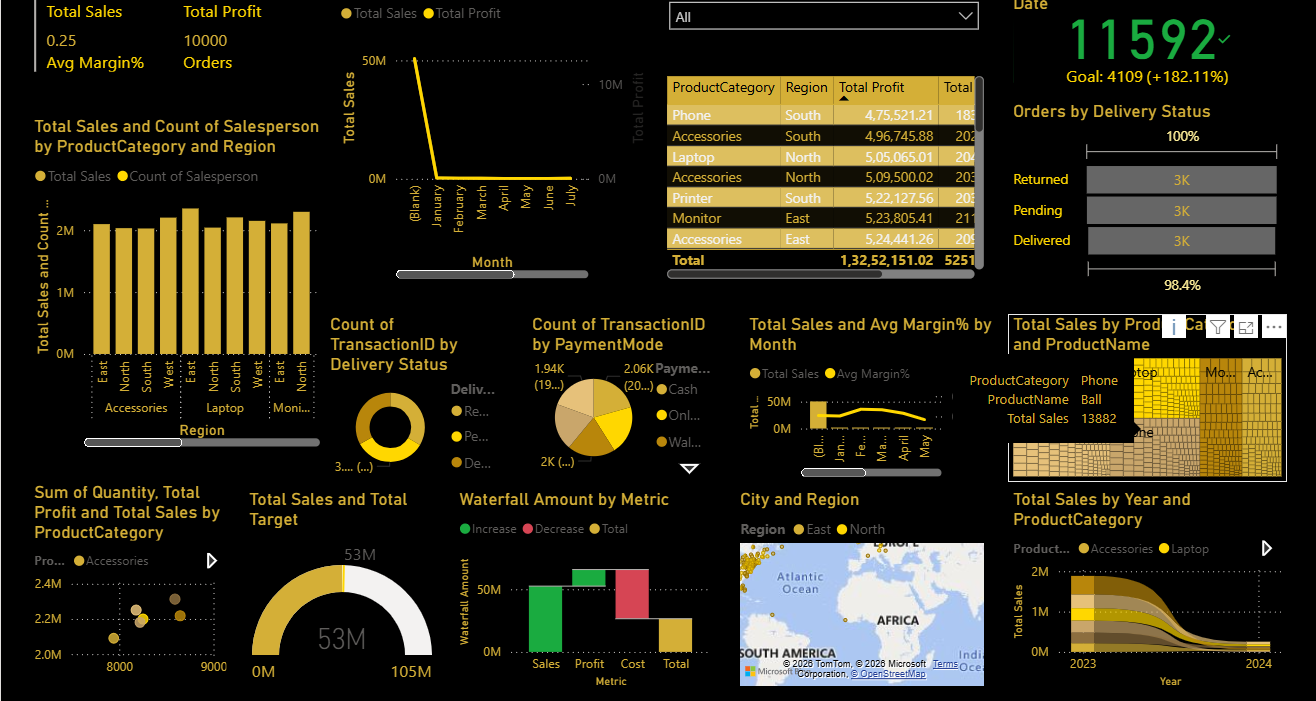

What the dashboard file says about the page in this screenshot:
{"tool":"powerbi","page":{"name":"Page 1","canvas":[1280,720],"ordinal":0},"visuals":[{"type":"multiRowCard","fields":{"Values":["Retail_Sales.Total Sales","Retail_Sales.Total Profit","Retail_Sales.Avg Margin%","Retail_Sales.Orders"]},"box":[27.2,9.7,287.9,134.2],"z":0},{"type":"columnChart","fields":{"Y":["Retail_Sales.Total Sales","CountNonNull(Retail_Sales.Salesperson)"],"Category":["Retail_Sales.ProductCategory","Retail_Sales.Region"]},"box":[27.2,148.8,287.9,326.8],"z":1000},{"type":"lineChart","fields":{"Y":["Retail_Sales.Total Sales"],"Y2":["Retail_Sales.Total Profit"],"Category":["Calendars.Date.Variation.Date Hierarchy.Month"]},"box":[324.9,9.7,306.4,302.5],"z":2000},{"type":"donutChart","fields":{"Category":["Retail_Sales.Delivery Status"],"Y":["CountNonNull(Retail_Sales.TransactionID)"]},"box":[315.1,341.4,178,163.4],"z":3000},{"type":"tableEx","fields":{"Values":["Retail_Sales.ProductCategory","Retail_Sales.Region","Retail_Sales.Total Profit","Retail_Sales.Total Sales","Retail_Sales.Avg Margin%"]},"box":[641.9,105,319,207.2],"z":4000},{"type":"slicer","fields":{"Values":["Retail_Sales.Region","Calendars.Date","Retail_Sales.ProductCategory"]},"box":[640,9.7,321,81.7],"z":5000},{"type":"lineClusteredColumnComboChart","fields":{"Y":["Retail_Sales.Total Sales"],"Y2":["Retail_Sales.Avg Margin%"],"Category":["Calendars.Date.Variation.Date Hierarchy.Month"]},"box":[722.7,341.4,247.1,163.4],"z":6000},{"type":"scatterChart","fields":{"X":["Sum(Retail_Sales.Quantity)"],"Y":["Retail_Sales.Total Profit"],"Size":["Retail_Sales.Total Sales"],"Series":["Retail_Sales.ProductCategory"]},"box":[27.2,504.8,197.4,197.4],"z":7000},{"type":"gauge","fields":{"Y":["Retail_Sales.Total Sales"],"TargetValue":["Retail_Sales.Total Target"]},"box":[236.4,511.6,190.6,197.4],"z":8000},{"type":"waterfallChart","fields":{"Category":["Waterfall Metrics.Metric"],"Y":["Waterfall Metrics.Waterfall Amount"]},"box":[440.6,511.6,254.8,197.4],"z":9000},{"type":"map","fields":{"Category":["Retail_Sales.City"],"Series":["Retail_Sales.Region"]},"box":[713.9,511.6,247.1,197.4],"z":10000},{"type":"funnel","fields":{"Y":["Retail_Sales.Orders"],"Category":["Retail_Sales.Delivery Status"]},"box":[979.5,134.2,271.4,193.6],"z":11000},{"type":"treemap","fields":{"Group":["Retail_Sales.ProductCategory"],"Details":["Retail_Sales.ProductName"],"Values":["Retail_Sales.Total Sales"]},"box":[979.5,341.4,271.4,163.4],"z":12000},{"type":"ribbonChart","fields":{"Series":["Retail_Sales.ProductCategory"],"Y":["Retail_Sales.Total Sales"],"Category":["Calendars.Date.Variation.Date Hierarchy.Year"]},"box":[979.5,511.6,271.4,197.4],"z":13000},{"type":"kpi","fields":{"Indicator":["Retail_Sales.Total Sales"],"Goal":["Retail_Sales.Total Target"],"TrendLine":["Calendars.Date"]},"box":[979.5,9.7,271.4,111.9],"z":14000},{"type":"pieChart","fields":{"Y":["CountNonNull(Retail_Sales.TransactionID)"],"Category":["Retail_Sales.PaymentMode"]},"box":[511.6,341.4,193.6,163.4],"z":15000}]}

Visuals, with their boxes on the page's 1280x720 design canvas (x1, y1, x2, y2). These are canvas units, not pixel positions in the 1316x701 screenshot, which may show the page scaled, cropped or inside an application window:
multiRowCard - Retail_Sales.Total Sales x Retail_Sales.Total Profit: l=27, t=10, r=315, b=144
columnChart - Retail_Sales.Total Sales x CountNonNull(Retail_Sales.Salesperson): l=27, t=149, r=315, b=476
lineChart - Retail_Sales.Total Sales x Retail_Sales.Total Profit: l=325, t=10, r=631, b=312
donutChart - Retail_Sales.Delivery Status x CountNonNull(Retail_Sales.TransactionID): l=315, t=341, r=493, b=505
tableEx - Retail_Sales.ProductCategory x Retail_Sales.Region: l=642, t=105, r=961, b=312
slicer - Retail_Sales.Region x Calendars.Date: l=640, t=10, r=961, b=91
lineClusteredColumnComboChart - Retail_Sales.Total Sales x Retail_Sales.Avg Margin%: l=723, t=341, r=970, b=505
scatterChart - Sum(Retail_Sales.Quantity) x Retail_Sales.Total Profit: l=27, t=505, r=225, b=702
gauge - Retail_Sales.Total Sales x Retail_Sales.Total Target: l=236, t=512, r=427, b=709
waterfallChart - Waterfall Metrics.Metric x Waterfall Metrics.Waterfall Amount: l=441, t=512, r=695, b=709
map - Retail_Sales.City x Retail_Sales.Region: l=714, t=512, r=961, b=709
funnel - Retail_Sales.Orders x Retail_Sales.Delivery Status: l=980, t=134, r=1251, b=328
treemap - Retail_Sales.ProductCategory x Retail_Sales.ProductName: l=980, t=341, r=1251, b=505
ribbonChart - Retail_Sales.ProductCategory x Retail_Sales.Total Sales: l=980, t=512, r=1251, b=709
kpi - Retail_Sales.Total Sales x Retail_Sales.Total Target: l=980, t=10, r=1251, b=122
pieChart - CountNonNull(Retail_Sales.TransactionID) x Retail_Sales.PaymentMode: l=512, t=341, r=705, b=505
